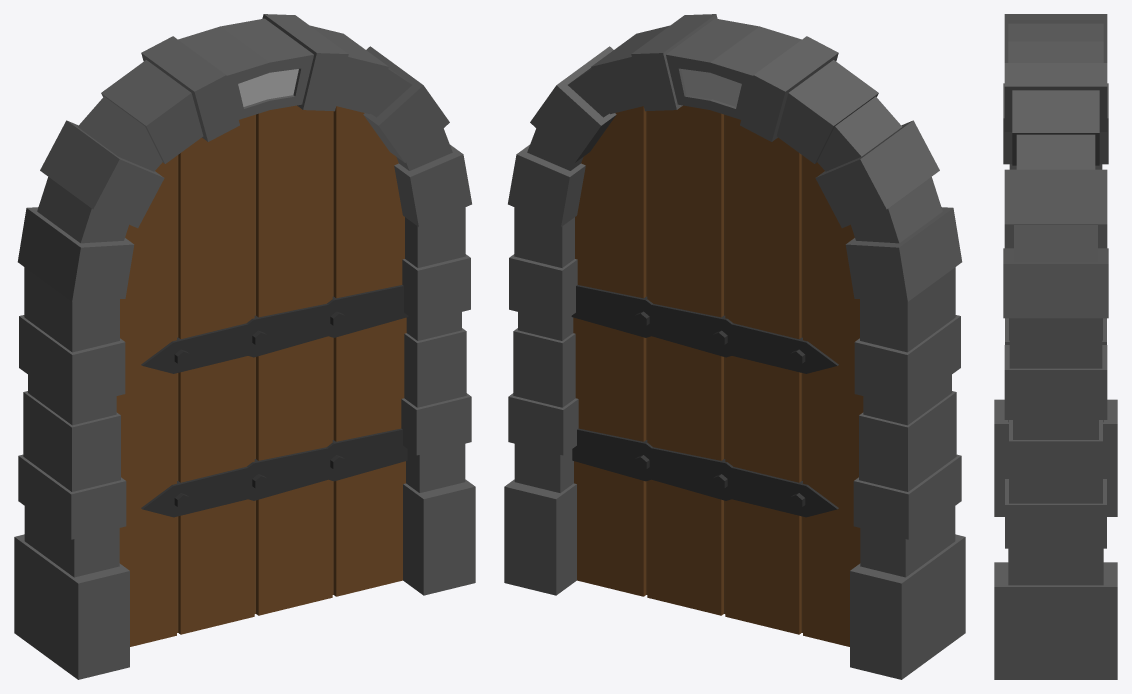
The model's file is Door.fbx.
3 views of the same model, side by side, from view 1: azimuth 30°, elevation 25°; view 2: azimuth 150°, elevation 25°; view 3: azimuth 270°, elevation 25° (orthographic). The views are drawn at different scales.
Visible parts, largest first — view 1: Cube.009; view 2: Cube.009; view 3: Cube.009.
Boxes of the visible parts, left/top/right/bottom form: Cube.009: left=14, top=14, right=475, bottom=679; Cube.009: left=504, top=14, right=965, bottom=679; Cube.009: left=994, top=14, right=1117, bottom=679.
Bounding box in the file's own units: 584 × 161 × 786.
